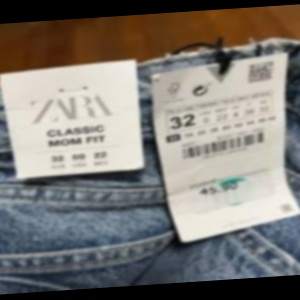zara: (60, 79, 186, 156)
